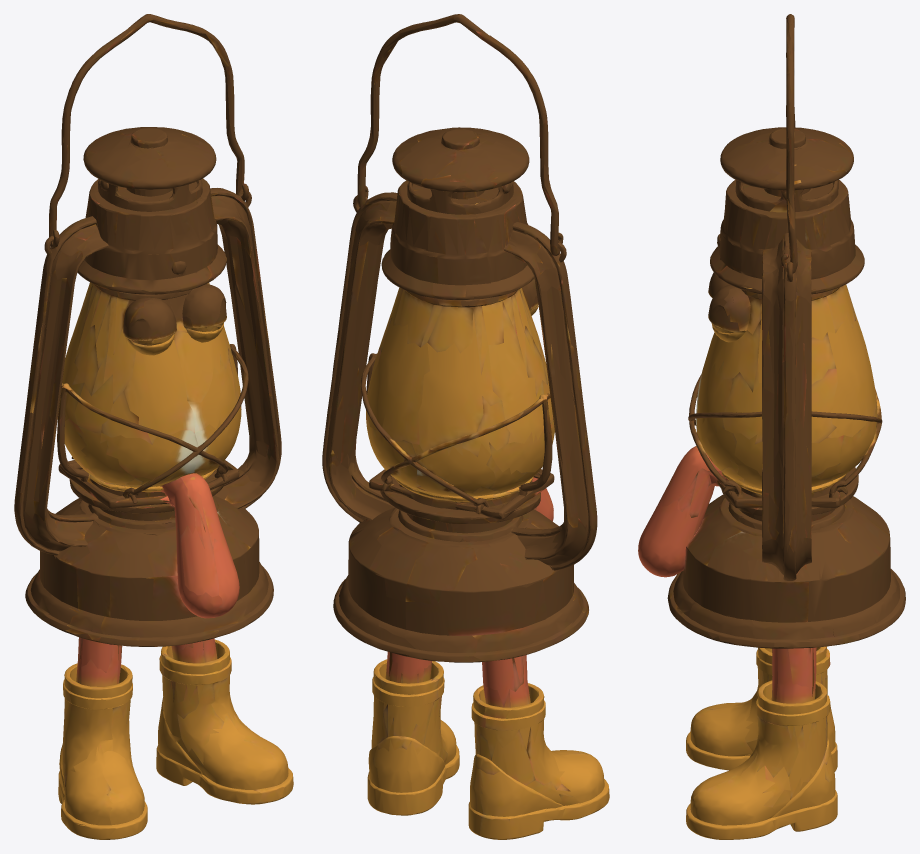
Rendered from mines_lantern.glb.
3 views of the same model, side by side, from view 1: azimuth 30°, elevation 25°; view 2: azimuth 150°, elevation 25°; view 3: azimuth 270°, elevation 25° (orthographic). The views are drawn at different scales.
Visible parts, largest first — view 1: Mesh_0; view 2: Mesh_0; view 3: Mesh_0.
Boxes of the visible parts, x1,y1,x2,y2 form: Mesh_0: (14, 14, 293, 839); Mesh_0: (322, 14, 609, 839); Mesh_0: (638, 14, 905, 839).
Bounding box in the file's own units: 0.6798 × 1.9 × 0.5939.
1 material, 1 textured.
